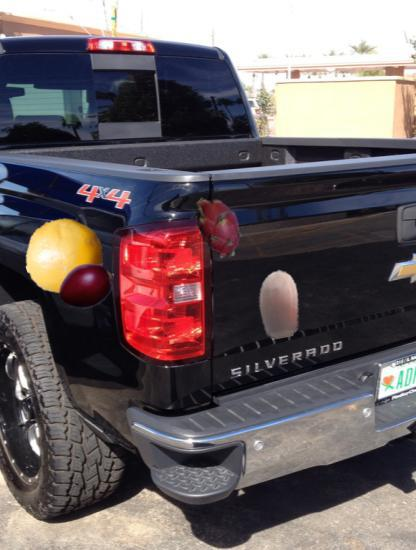Grapefruit: (24, 216, 104, 296)
Hazelnut: (245, 269, 315, 339)
Pitahaya: (186, 194, 251, 259)
Tamarillo: (58, 257, 117, 316)
